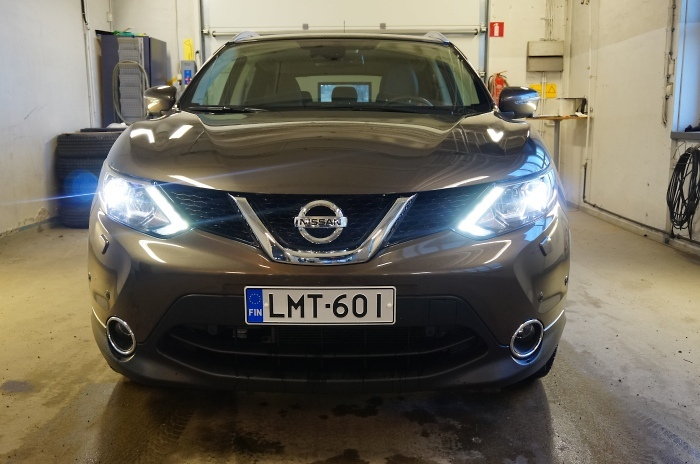license: (239, 283, 395, 331)
